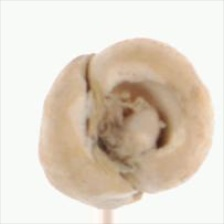L3: (86, 81, 176, 172)
L4: (39, 39, 214, 208)
